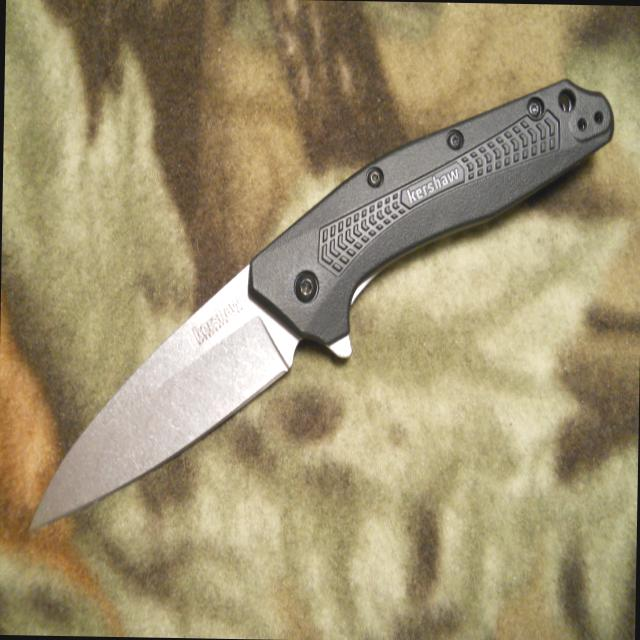knife: (18, 236, 314, 550)
